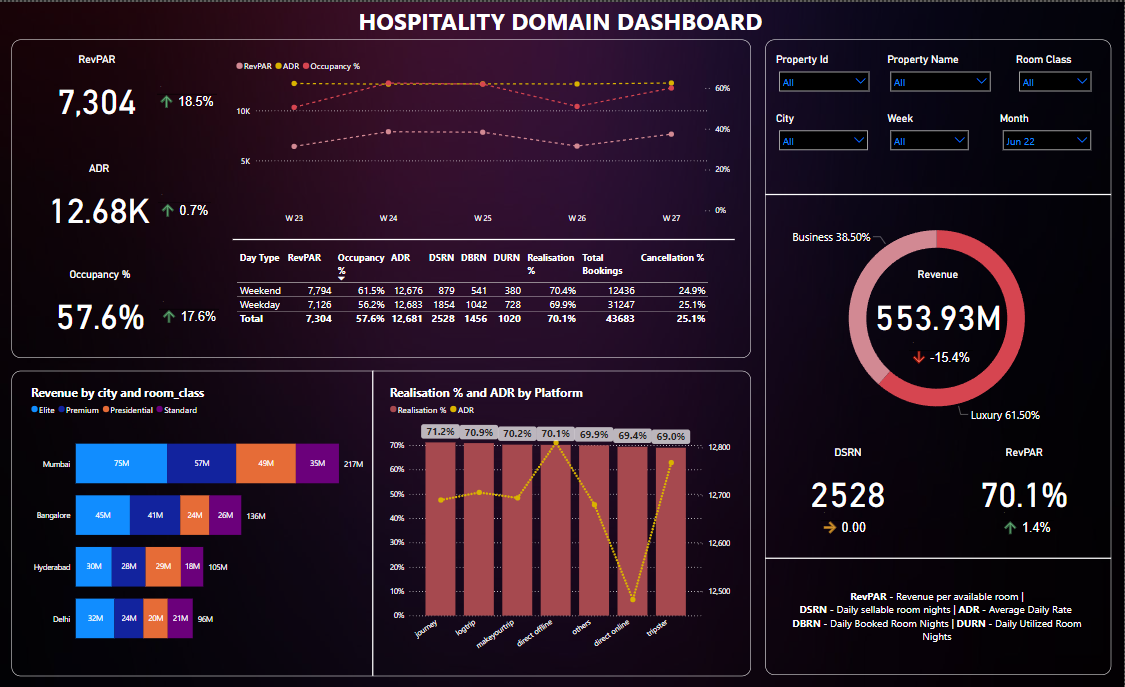

What the dashboard file says about the page in this screenshot:
{"tool":"powerbi","page":{"name":"Duplicate of Home","canvas":[1800,1100],"ordinal":0},"visuals":[{"type":"shape","box":[1225,158.3,553.3,300],"z":0},{"type":"shape","box":[1225,740,553.3,300],"z":1000},{"type":"shape","box":[316,590,564,488],"z":2000},{"type":"shape","box":[20.3,590.4,1182.8,489],"z":3000},{"type":"shape","box":[20.3,60.9,1182.8,509.2],"z":4000},{"type":"shape","box":[1225.4,60.9,553.9,1016.5],"z":5000},{"type":"lineChart","title":"Trend by Key Metrics","fields":{"Category":["dim_date.mmm yy.Variation.Date Hierarchy.Month","dim_date.week no"],"Y2":["key_measures.Occupancy %"],"Y":["key_measures.Rev Par","key_measures.ADR"]},"box":[373.3,81.7,803.3,281.7],"z":6000},{"type":"card","title":"RevPAR","fields":{"Values":["key_measures.RevPAR"]},"box":[40,82.5,232.5,125],"z":7000},{"type":"card","title":"ADR","fields":{"Values":["key_measures.ADR"]},"box":[45,255,227.5,125],"z":8000},{"type":"card","title":"Occupancy %","fields":{"Values":["key_measures.Occupancy %"]},"box":[50,425,222.5,125],"z":9000},{"type":"tableEx","fields":{"Values":["key_measures.Revpar WoW change %"]},"box":[245,115,122.5,92.5],"z":10000},{"type":"tableEx","fields":{"Values":["key_measures.Occupancy WoW change %"]},"box":[250,460,122.5,90],"z":11000},{"type":"tableEx","fields":{"Values":["key_measures.ADR WoW change %"]},"box":[247.5,290,122.5,90],"z":12000},{"type":"donutChart","title":"% Revenue by category","fields":{"Category":["dim_hotels.category"],"Y":["key_measures.Revenue"]},"box":[1243,302.6,513.3,408.3],"z":13000},{"type":"barChart","fields":{"Category":["dim_hotels.city"],"Series":["dim_rooms.room_class"],"Y":["key_measures.Revenue"]},"box":[45,611.7,543.3,446.7],"z":14000},{"type":"card","title":"DSRN","fields":{"Values":["key_measures.DSRN"]},"box":[1242.7,710.6,232,126],"z":15000},{"type":"card","title":"RevPAR","fields":{"Values":["key_measures.Realisation %"]},"box":[1524.7,710.6,232,126],"z":16000},{"type":"tableEx","fields":{"Values":["dim_date.day type","key_measures.Rev Par","key_measures.Occupancy %","key_measures.ADR","key_measures.DSRN","key_measures.DBRN","key_measures.DURN","key_measures.Realisation %","key_measures.Total Bookings","key_measures.Cancellation %"]},"box":[373.3,393.3,800,158.3],"z":17000},{"type":"tableEx","fields":{"Values":["key_measures.DSRN WoW change %"]},"box":[1308.7,798.6,122,92],"z":18000},{"type":"tableEx","fields":{"Values":["key_measures.Realisation WoW change %"]},"box":[1596.7,798.6,122,92],"z":19000},{"type":"shape","box":[373.3,230,803.3,300],"z":20000},{"type":"lineStackedColumnComboChart","title":"Realisation % and ADR by Platform","fields":{"Category":["fact_bookings.booking_platform"],"Y":["key_measures.Realisation %"],"Y2":["key_measures.ADR"]},"box":[620,611.7,555,446.7],"z":21000},{"type":"slicer","title":"Room Class","fields":{"Values":["dim_rooms.room_class"]},"box":[1622.2,82.2,135.6,63.3],"z":22000},{"type":"slicer","title":"City","fields":{"Values":["dim_hotels.city"]},"box":[1237.8,176.7,162.2,61.1],"z":23000},{"type":"slicer","title":"Month","fields":{"Values":["dim_date.mmm yy"]},"box":[1596.7,176.7,161.1,61.1],"z":24000},{"type":"slicer","title":"Week","fields":{"Values":["dim_date.week no"]},"box":[1416.7,176.7,145.6,81.1],"z":25000},{"type":"slicer","title":"Property Name","fields":{"Values":["dim_hotels.property_name"]},"box":[1416.7,82.2,180,76.7],"z":26000},{"type":"slicer","title":"Property Id","fields":{"Values":["dim_hotels.property_id"]},"box":[1237.8,82.2,164.4,76.7],"z":27000},{"type":"card","title":"Revenue","fields":{"Values":["key_measures.Revenue"]},"box":[1385.5,426.2,232,126],"z":28000},{"type":"tableEx","fields":{"Values":["key_measures.Revenue WoW change %"]},"box":[1449.5,526.2,122,92],"z":29000},{"type":"textbox","box":[1243.3,933.3,513.3,106.7],"z":30000},{"type":"textbox","box":[569.8,0,674.4,59.8],"z":31000}]}

Visuals, with their boxes in screenshot pixels (x1, y1, x2, y2), scaled from the page's 1800x1100 canvas onto the 1125x687 screenshot:
shape: bbox=(766, 99, 1111, 286)
shape: bbox=(766, 462, 1111, 650)
shape: bbox=(198, 368, 550, 673)
shape: bbox=(13, 369, 752, 674)
shape: bbox=(13, 38, 752, 356)
shape: bbox=(766, 38, 1112, 673)
"Trend by Key Metrics" lineChart: bbox=(233, 51, 735, 227)
"RevPAR" card: bbox=(25, 52, 170, 130)
"ADR" card: bbox=(28, 159, 170, 237)
"Occupancy %" card: bbox=(31, 265, 170, 344)
tableEx - key_measures.Revpar WoW change %: bbox=(153, 72, 230, 130)
tableEx - key_measures.Occupancy WoW change %: bbox=(156, 287, 233, 344)
tableEx - key_measures.ADR WoW change %: bbox=(155, 181, 231, 237)
"% Revenue by category" donutChart: bbox=(777, 189, 1098, 444)
barChart - dim_hotels.city x dim_rooms.room_class: bbox=(28, 382, 368, 661)
"DSRN" card: bbox=(777, 444, 922, 522)
"RevPAR" card: bbox=(953, 444, 1098, 522)
tableEx - dim_date.day type x key_measures.Rev Par: bbox=(233, 246, 733, 344)
tableEx - key_measures.DSRN WoW change %: bbox=(818, 499, 894, 556)
tableEx - key_measures.Realisation WoW change %: bbox=(998, 499, 1074, 556)
shape: bbox=(233, 144, 735, 331)
"Realisation % and ADR by Platform" lineStackedColumnComboChart: bbox=(388, 382, 734, 661)
"Room Class" slicer: bbox=(1014, 51, 1099, 91)
"City" slicer: bbox=(774, 110, 875, 149)
"Month" slicer: bbox=(998, 110, 1099, 149)
"Week" slicer: bbox=(885, 110, 976, 161)
"Property Name" slicer: bbox=(885, 51, 998, 99)
"Property Id" slicer: bbox=(774, 51, 876, 99)
"Revenue" card: bbox=(866, 266, 1011, 345)
tableEx - key_measures.Revenue WoW change %: bbox=(906, 329, 982, 386)
textbox: bbox=(777, 583, 1098, 650)
textbox: bbox=(356, 0, 778, 37)
